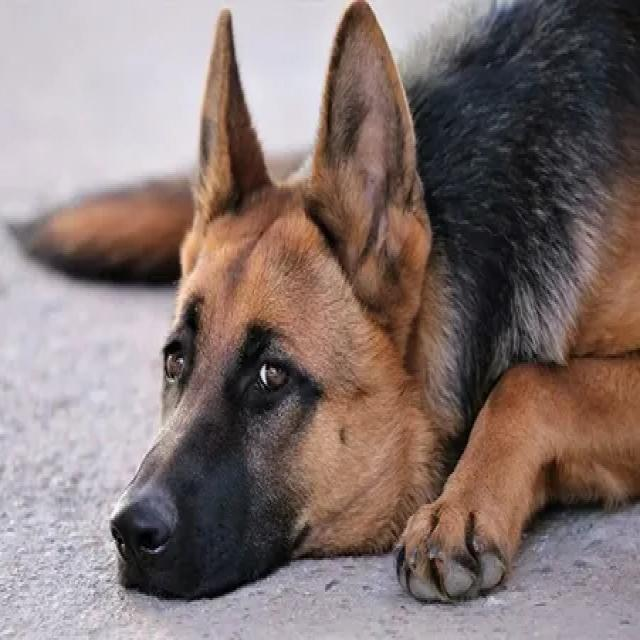Dog: (106, 11, 516, 611)
